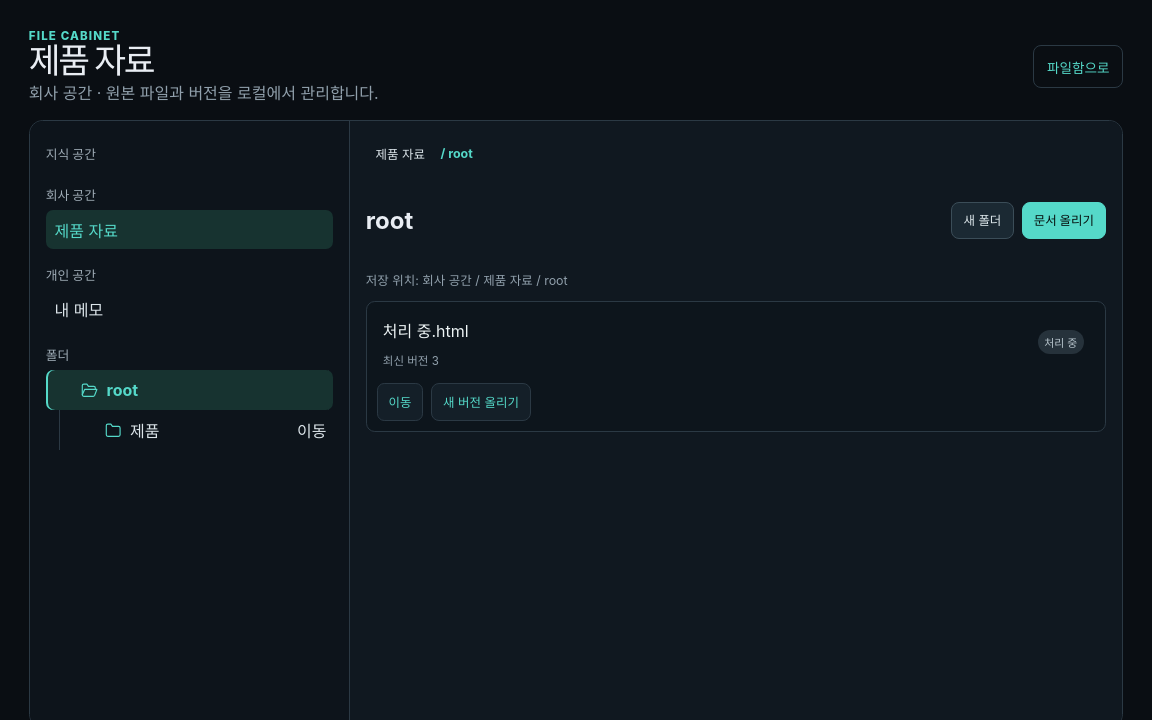
Test: opens metadata for a document without an active READY original without claiming it is ready
The width and height of the screenshot is (1152, 720).
Click the button with aria-label "처리 중.html 열기" at (426, 330), box [377,313,474,348]
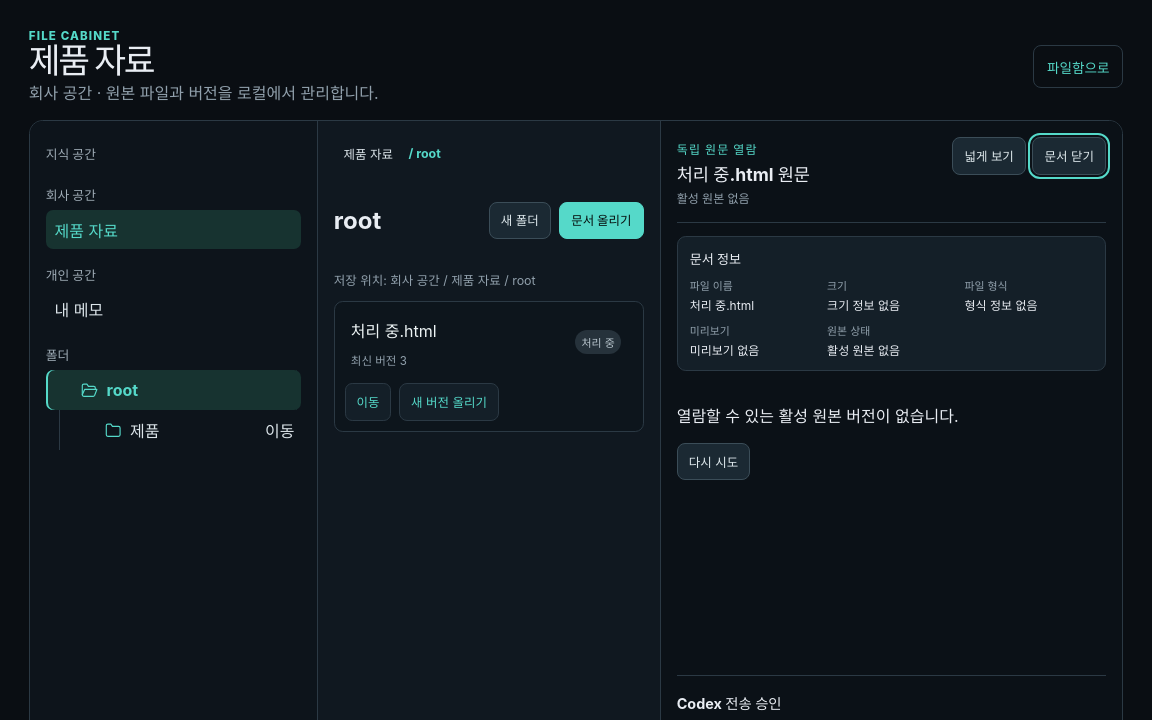
Result: the text "열람할 수 있는 활성 원본 버전이 없습니다." is shown at [677,406,959,426]
